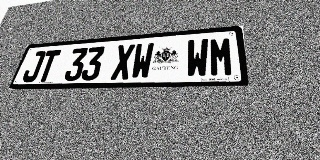3: (63, 47, 89, 81), (80, 46, 105, 81)
J: (20, 51, 47, 82)
M: (209, 36, 234, 77)
T: (35, 50, 61, 82)
W: (185, 38, 209, 78), (130, 42, 154, 79)
X: (110, 44, 135, 80)
